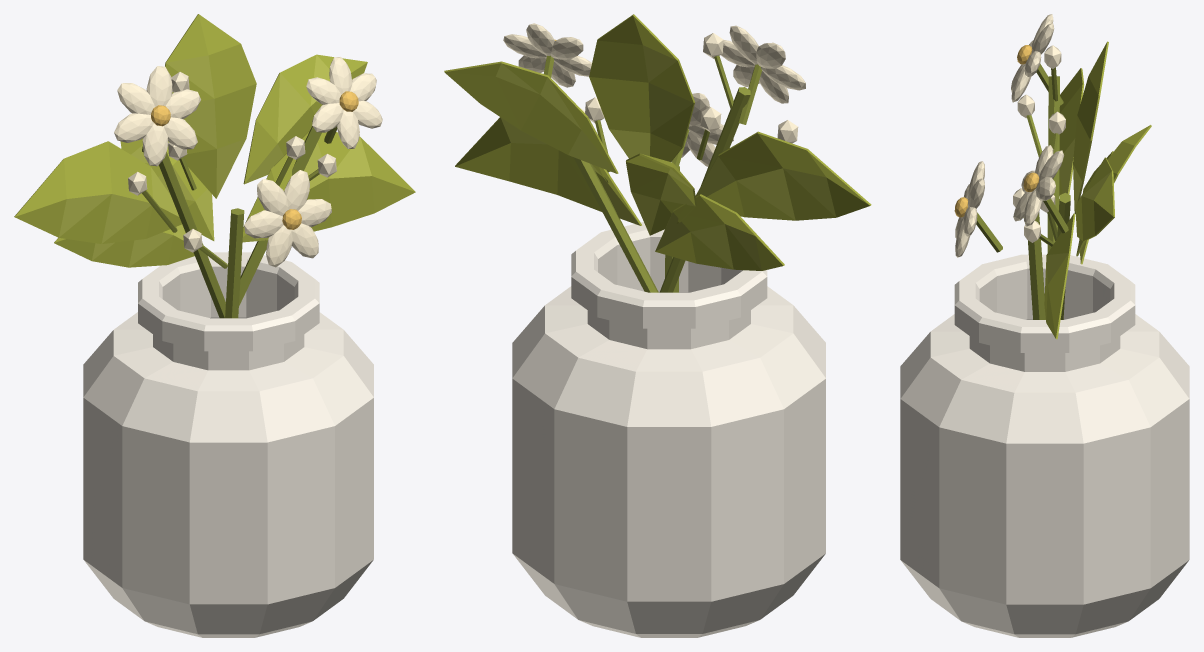
File: glass-vase.glb
3 renders of one model, left to right at view 1: azimuth 30°, elevation 25°; view 2: azimuth 150°, elevation 25°; view 3: azimuth 270°, elevation 25°, orthographic. The views are drawn at different scales.
Visible parts, largest first — view 1: 02 花瓶 · 厚壁玻璃, 01 花束 · 花瓣花蕊叶片花茎; view 2: 02 花瓶 · 厚壁玻璃, 01 花束 · 花瓣花蕊叶片花茎; view 3: 02 花瓶 · 厚壁玻璃, 01 花束 · 花瓣花蕊叶片花茎.
Part boxes in pixels (x1=…): 02 花瓶 · 厚壁玻璃: x1=83, y1=252, x2=373, y2=637; 01 花束 · 花瓣花蕊叶片花茎: x1=14, y1=14, x2=415, y2=318; 02 花瓶 · 厚壁玻璃: x1=512, y1=222, x2=825, y2=637; 01 花束 · 花瓣花蕊叶片花茎: x1=444, y1=14, x2=871, y2=292; 02 花瓶 · 厚壁玻璃: x1=900, y1=254, x2=1189, y2=637; 01 花束 · 花瓣花蕊叶片花茎: x1=954, y1=14, x2=1151, y2=339.
Size of the model in its own units: 2.9 by 3.94 by 1.85.
